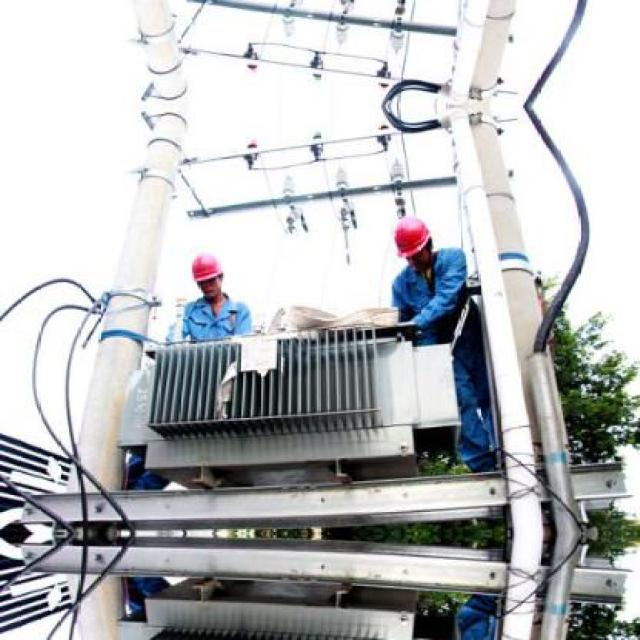helmet: (392, 211, 436, 269), (188, 246, 225, 298)
